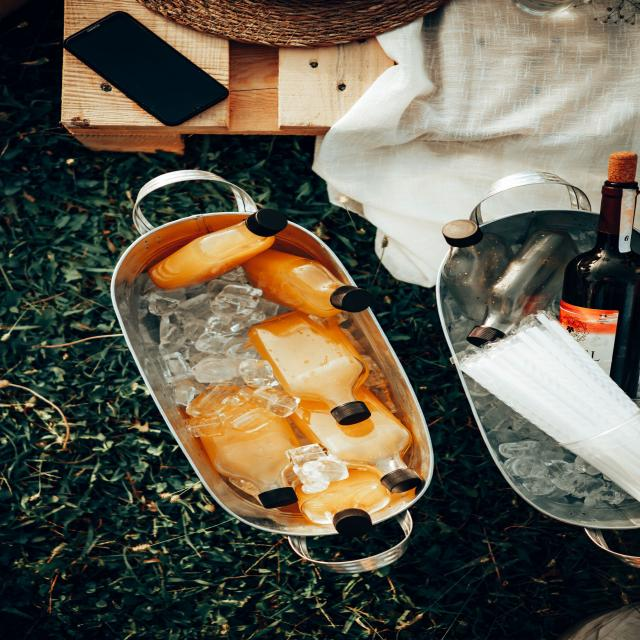Bottle: (560, 152, 639, 397), (187, 384, 299, 508), (290, 387, 421, 492), (249, 312, 370, 424), (468, 229, 577, 346), (149, 209, 287, 289), (242, 249, 372, 317), (442, 220, 512, 322), (297, 470, 391, 536)
